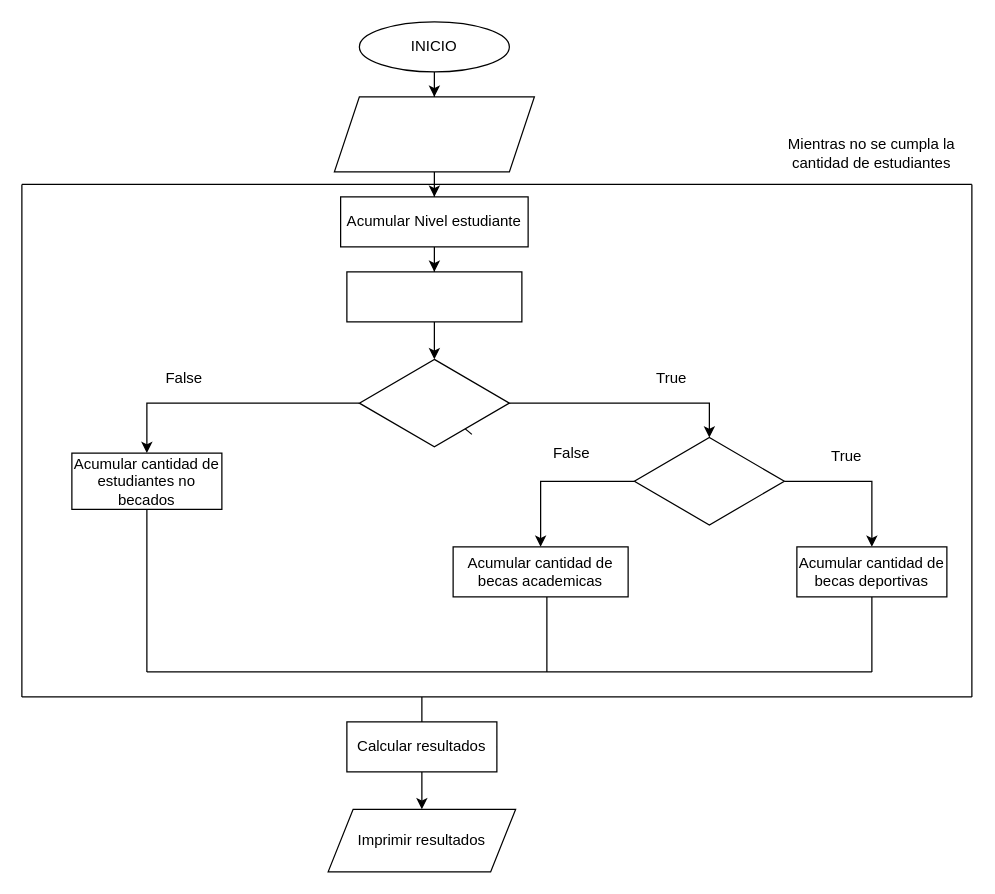
Some shapes in this 995 by 894 pixel diagram are drawn without their labels. The shapes that lost their labels are listed below. From the top down, each one's centre as x and y in pixels, then its label:
At pixel 433 134: "Leer datos de entrada".
At pixel 434 296: "Acumular equipo del estudiante".
At pixel 433 402: "Definir si tiene beca".
At pixel 708 480: "Definir si tiene beca deportiva".
